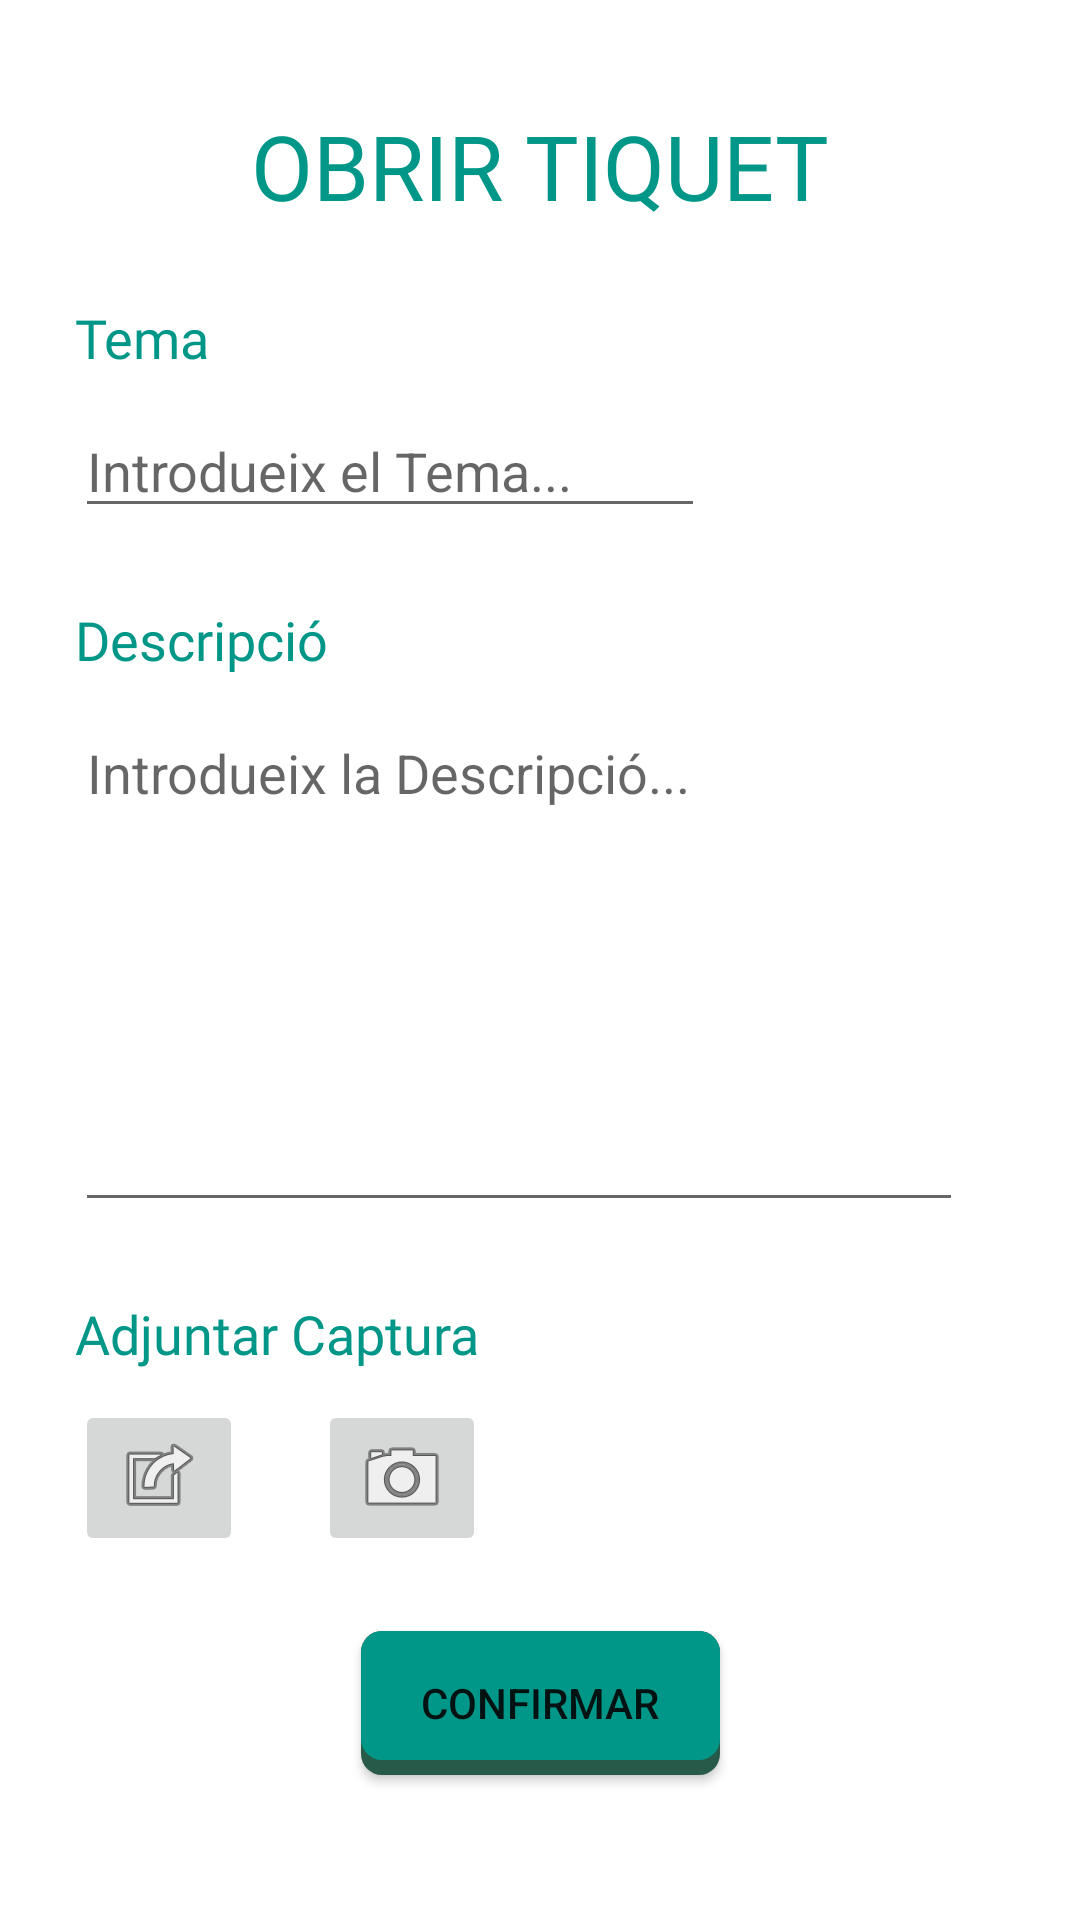

Icons on this 1080x1920 Android screen, each with the point to tap as (x,y):
Imatge per adujntar captura: (159,1478)
